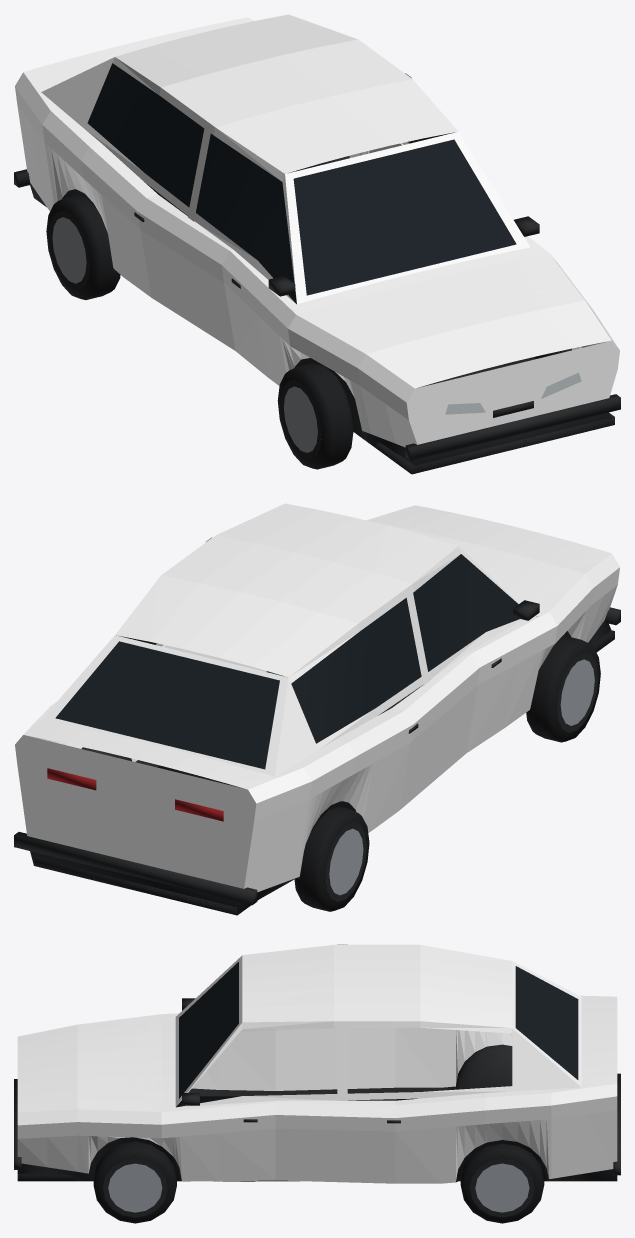
File: vallon_meandro.glb
3 views of the same model, one above another, from view 1: azimuth 30°, elevation 25°; view 2: azimuth 150°, elevation 25°; view 3: azimuth 270°, elevation 25° (orthographic). The views are drawn at different scales.
Parts seen in each view (by area): view 1: Body_Paint, Body_Details, Mount_FrontLeft_Wheel_Details, Mount_RearLeft_Wheel_Details; view 2: Body_Paint, Body_Details, Mount_FrontLeft_Wheel_Details, Mount_RearLeft_Wheel_Details; view 3: Body_Paint, Body_Details, Mount_FrontRight_Wheel_Details, Mount_RearRight_Wheel_Details.
Boxes of the visible parts, x1=… form: Body_Paint: x1=15, y1=14, x2=619, y2=447; Body_Details: x1=14, y1=63, x2=620, y2=474; Mount_FrontLeft_Wheel_Details: x1=277, y1=363, x2=353, y2=469; Mount_RearLeft_Wheel_Details: x1=46, y1=194, x2=120, y2=299; Body_Paint: x1=15, y1=503, x2=619, y2=892; Body_Details: x1=14, y1=554, x2=620, y2=915; Mount_FrontLeft_Wheel_Details: x1=526, y1=635, x2=600, y2=742; Mount_RearLeft_Wheel_Details: x1=294, y1=806, x2=369, y2=911; Body_Paint: x1=17, y1=944, x2=617, y2=1183; Body_Details: x1=14, y1=962, x2=620, y2=1182; Mount_FrontRight_Wheel_Details: x1=93, y1=1141, x2=176, y2=1223; Mount_RearRight_Wheel_Details: x1=460, y1=1143, x2=544, y2=1223.
Size of the model in its own units: 1.82 by 1.52 by 4.36.
2 materials, 1 textured.
